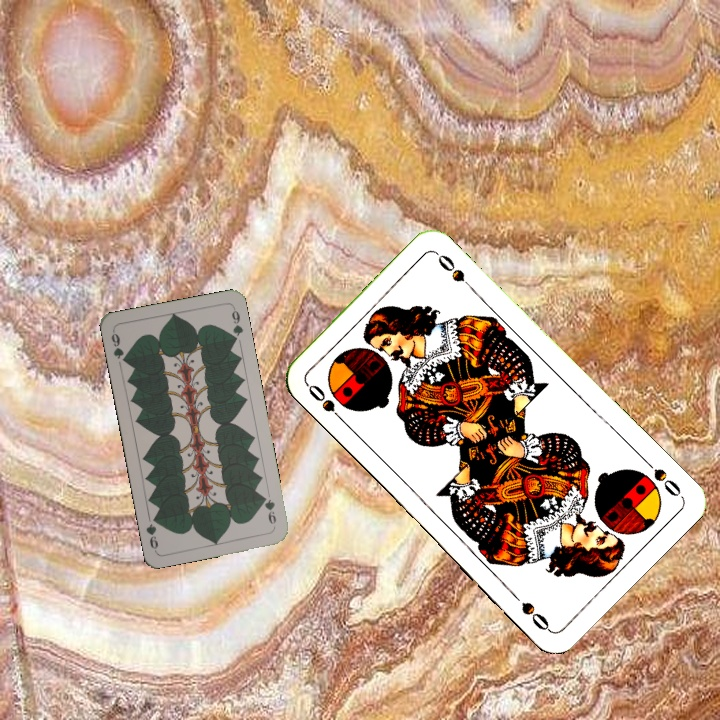G9: (107, 327, 130, 366), (258, 490, 279, 527)
SO: (303, 380, 349, 427), (639, 454, 685, 500)
